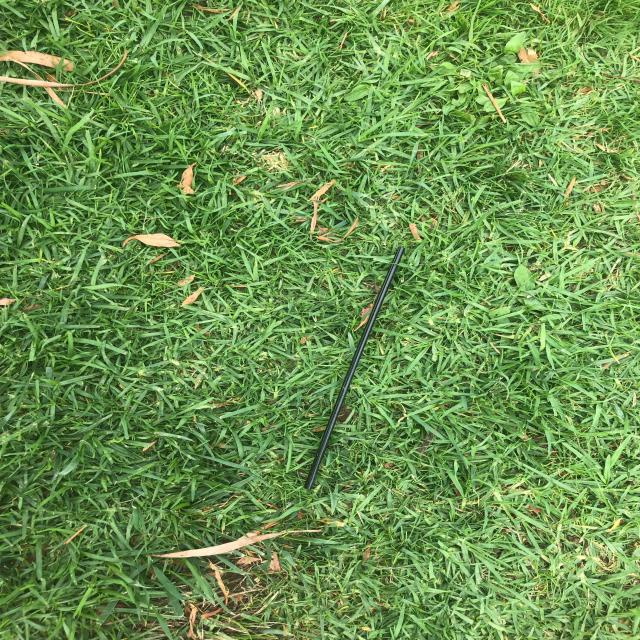litter: (328, 176, 640, 250)
